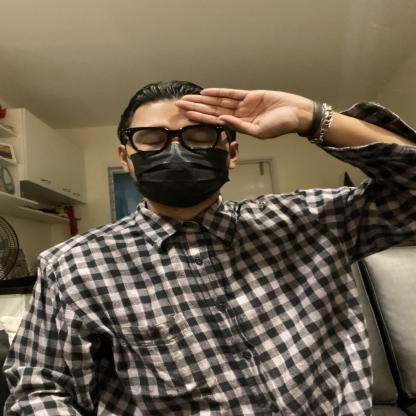Sick: (60, 64, 354, 204)
